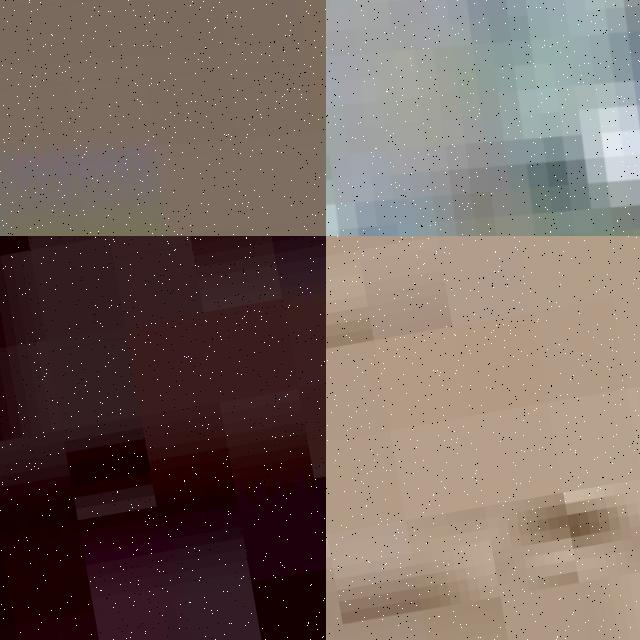0: (0, 0, 326, 236)
drone: (326, 0, 640, 236)
